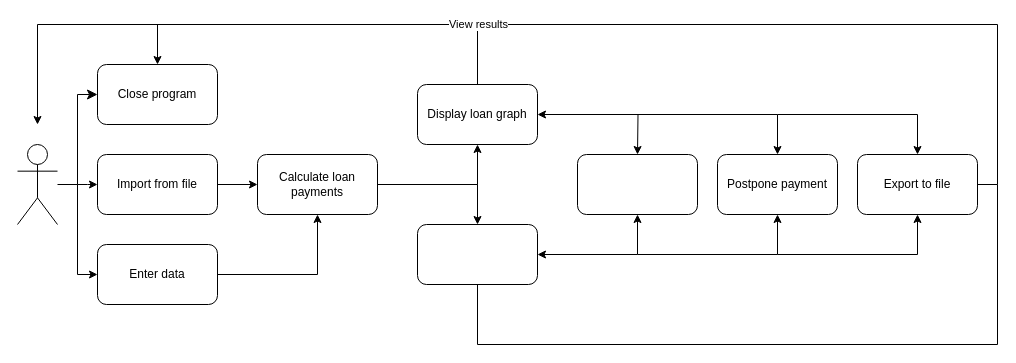
The diagram is 1016 pixels wide and 363 high, and some of its shapes have lost their labels. The shapes that lost their labels are listed below. From the top down, each one's box as (x1, y1, x2, y2) in pixels, then its label:
(16, 144, 58, 224): User
(576, 154, 698, 214): Filter data
(416, 224, 538, 284): Display loan table
